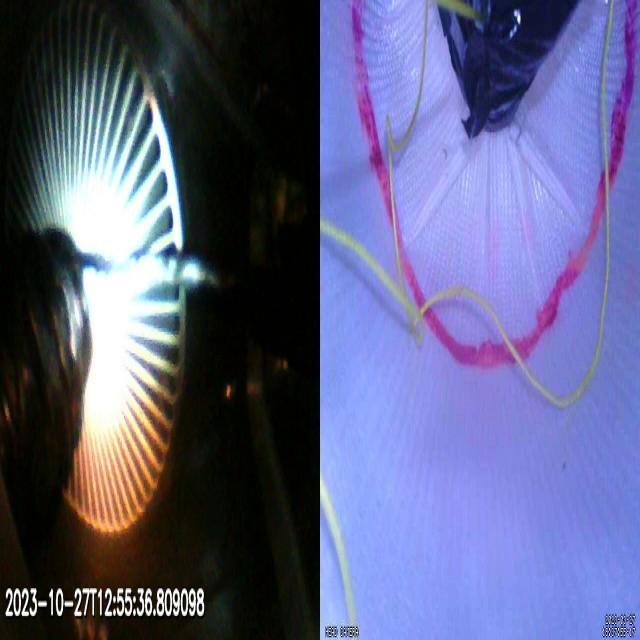red-circle: (352, 0, 638, 371)
